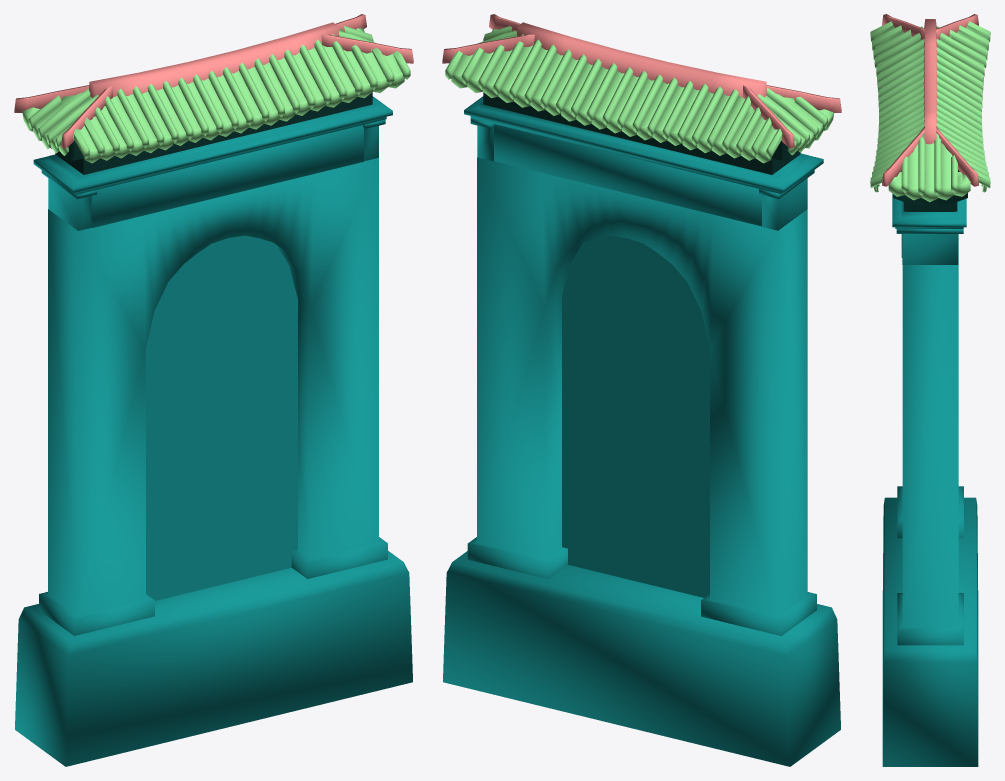
The model's file is 비밀방.fbx.
The picture shows the model from 3 angles, left to right: view 1: azimuth 30°, elevation 25°; view 2: azimuth 150°, elevation 25°; view 3: azimuth 270°, elevation 25°; orthographic projection. The views are drawn at different scales.
Parts seen in each view (by area): view 1: 2_low001; view 2: 2_low001; view 3: 2_low001.
Part boxes in pixels (x1,y1,x2,y2): 2_low001: [14, 14, 413, 766]; 2_low001: [442, 14, 841, 766]; 2_low001: [870, 14, 990, 766].
Bounding box in the file's own units: 151 × 267 × 47.42.
